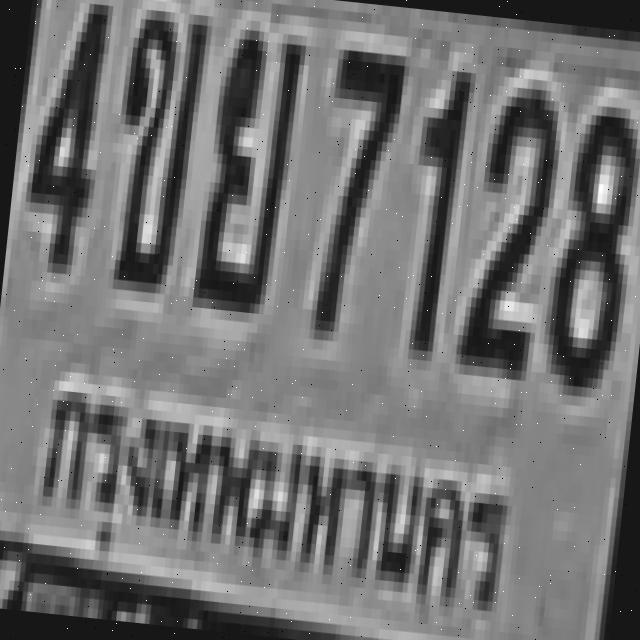1: (396, 58, 469, 352)
11KhorKhai: (103, 0, 208, 285)
2: (455, 70, 561, 366)
4: (19, 0, 105, 265)
43YorYak: (188, 17, 303, 305)
7: (304, 38, 402, 334)
8: (539, 93, 640, 390)
Bangkok: (9, 363, 530, 640)
